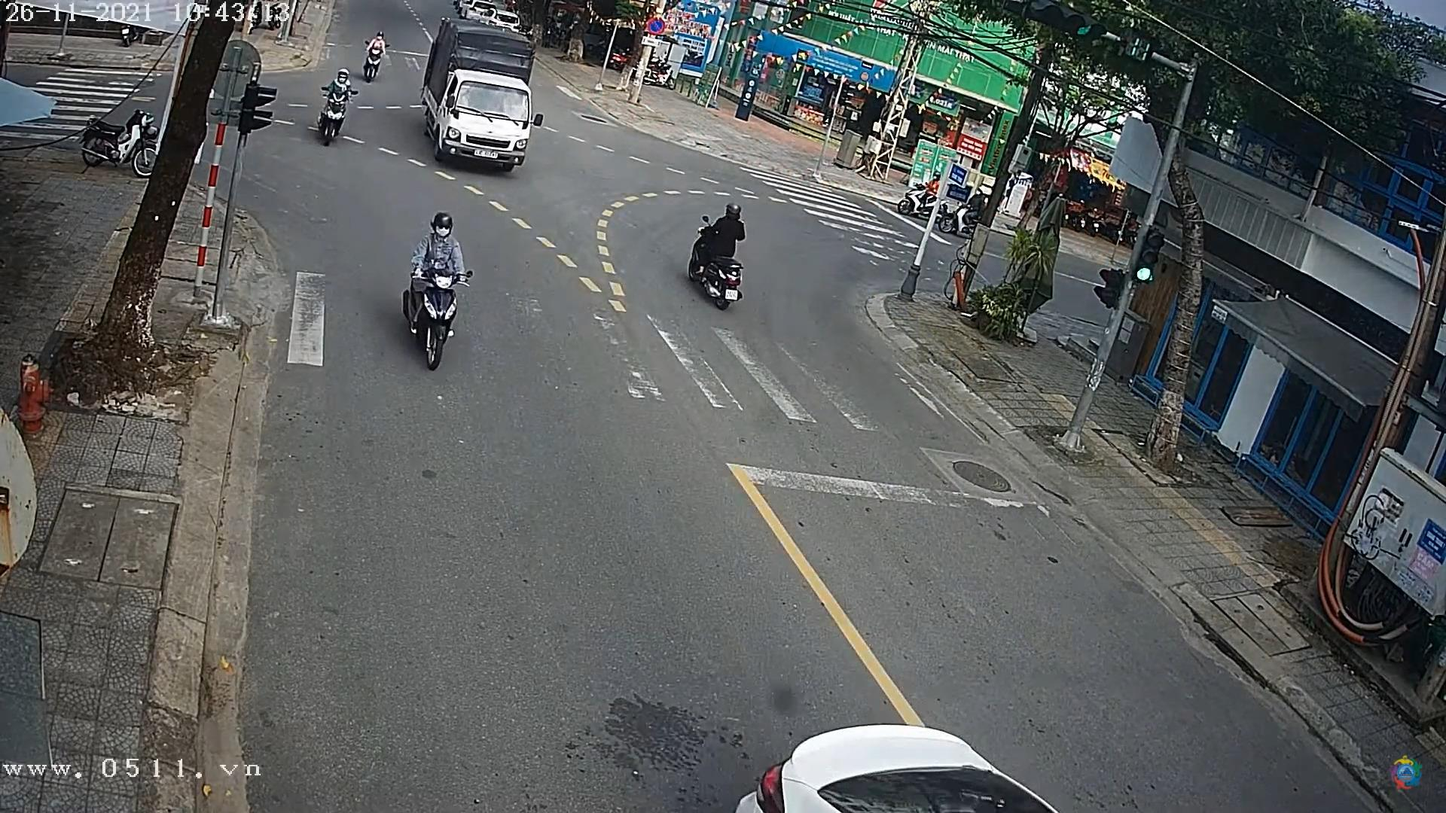motorbike: (400, 254, 470, 374), (691, 254, 746, 310), (313, 106, 343, 144)
truck: (421, 20, 540, 171)
